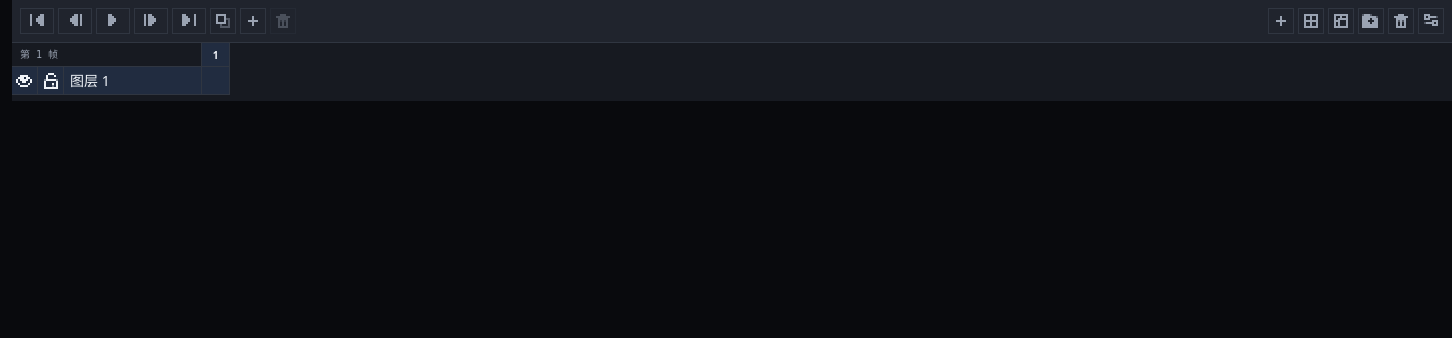
Scenario: LayersPanel animation › disables layer-mask creation and paste for empty cels with an explanatory tooltip
Right-click the button named "第 1 帧动画单元格" at (216, 81), box x1=202 y1=67 x2=230 y2=95
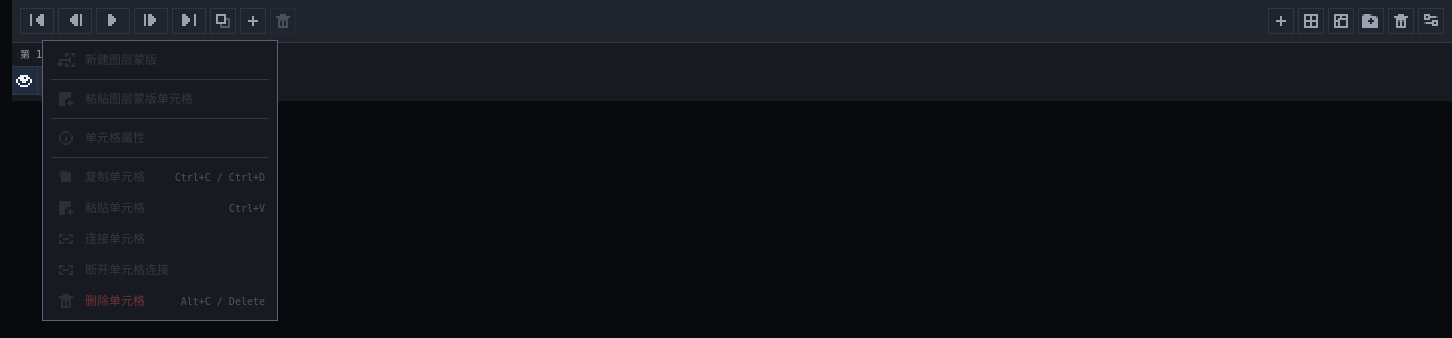
expect the menu item "新建图层蒙版" is disabled: met
expect the menu item "粘贴图层蒙版单元格" is disabled: met, box x1=47 y1=84 x2=273 y2=114
Hover over the element "新建图层蒙版" at (160, 60), box x1=47 y1=45 x2=273 y2=75
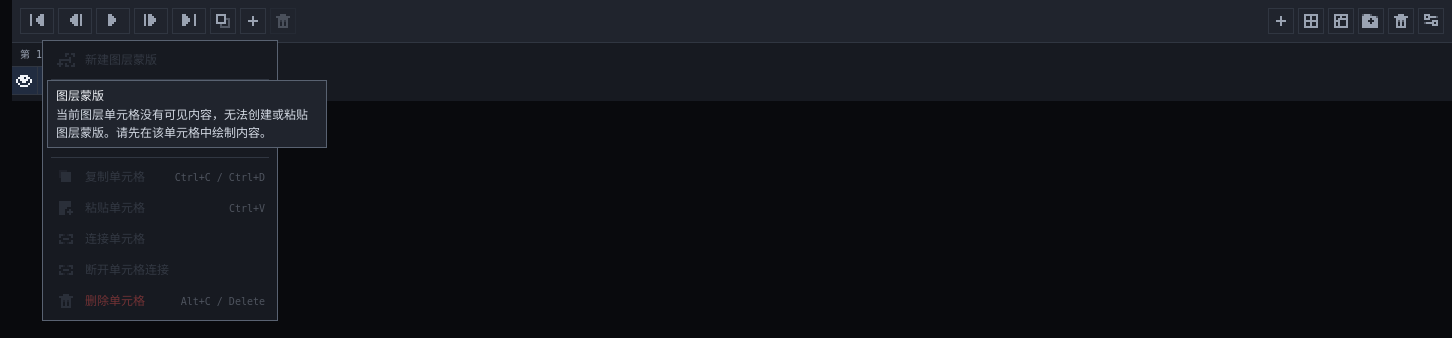
expect the tooltip shows "当前图层单元格没有可见内容，无法创建或粘贴图层蒙版。请先在该单元格中绘制内容。": met, box x1=56 y1=106 x2=308 y2=141
